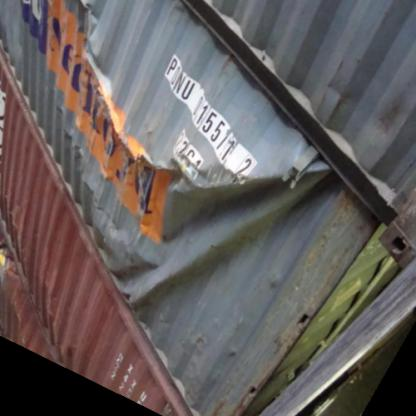Damage: (36, 10, 158, 200), (145, 144, 330, 205), (116, 210, 248, 294)
